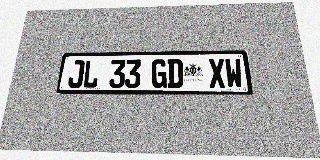3: (109, 60, 126, 88), (125, 59, 141, 88)
D: (167, 59, 183, 88)
G: (151, 59, 167, 88)
J: (67, 60, 85, 88)
L: (82, 60, 100, 88)
W: (224, 58, 243, 88)
X: (208, 58, 226, 88)
